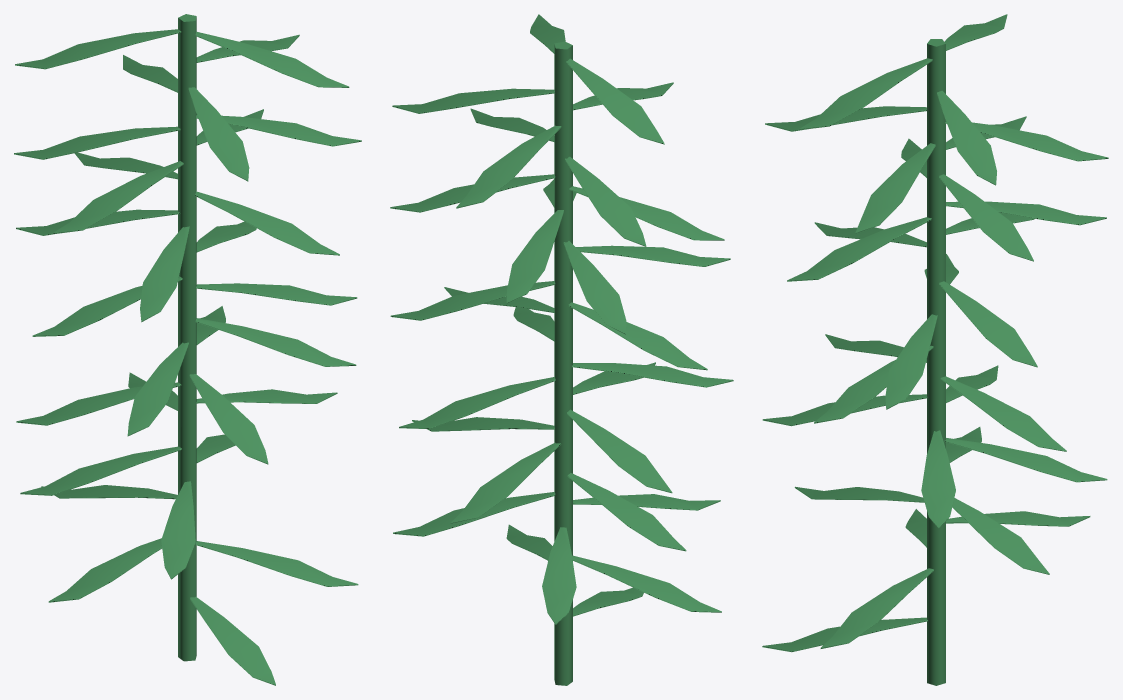
Rendered from Plant1.fbx.
3 renders of one model, left to right at view 1: azimuth 30°, elevation 25°; view 2: azimuth 150°, elevation 25°; view 3: azimuth 270°, elevation 25°, orthographic.
Parts seen in each view (by area): view 1: plant1; view 2: plant1; view 3: plant1.
Boxes of the visible parts, left/top/right/bottom form: plant1: left=14, top=14, right=361, bottom=685; plant1: left=390, top=14, right=733, bottom=685; plant1: left=762, top=14, right=1108, bottom=685.
Size of the model in its own units: 34.75 by 70.54 by 34.61.
